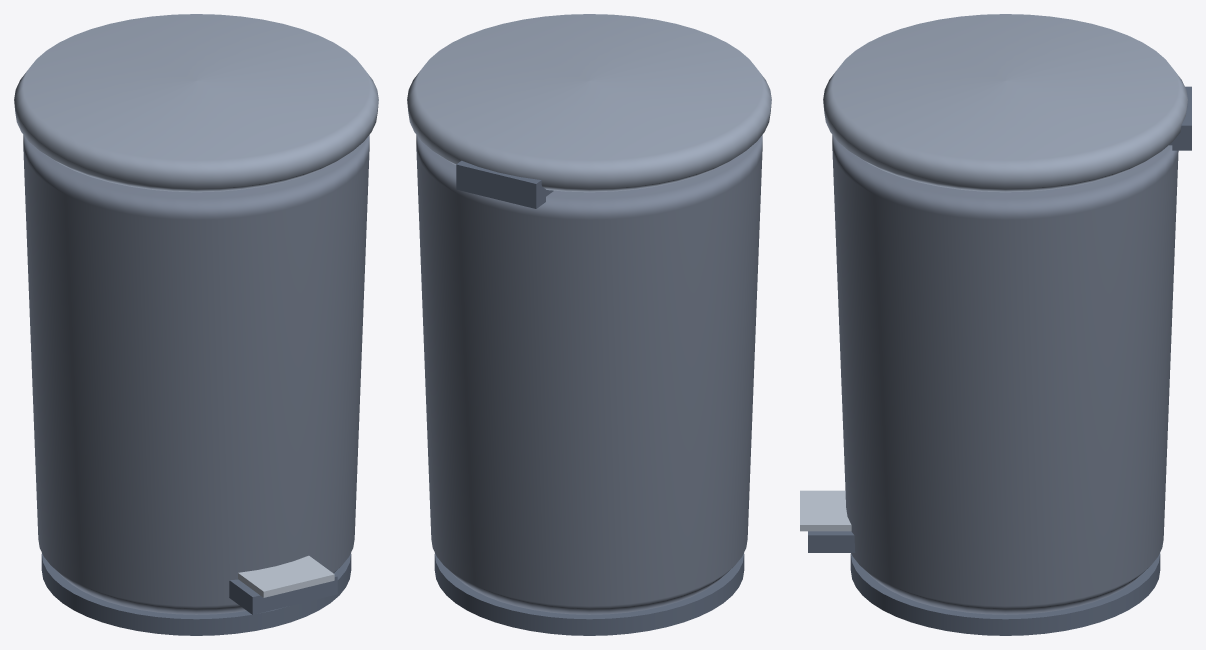
The model's file is trash-bin-lite.glb.
The picture shows the model from 3 angles, left to right: view 1: azimuth 30°, elevation 25°; view 2: azimuth 150°, elevation 25°; view 3: azimuth 270°, elevation 25°; orthographic projection.
Parts seen in each view (by area): view 1: trash-bin-frame, trash-bin-accent, trash-bin-dark, trash-bin-light; view 2: trash-bin-frame, trash-bin-accent, trash-bin-dark; view 3: trash-bin-frame, trash-bin-accent, trash-bin-dark, trash-bin-light.
Boxes of the visible parts, x1,y1,x2,y2 form: trash-bin-frame: (23,135,369,614); trash-bin-accent: (14,14,378,192); trash-bin-dark: (41,553,351,635); trash-bin-light: (238,555,334,597); trash-bin-frame: (416,135,762,614); trash-bin-accent: (407,14,771,192); trash-bin-dark: (434,160,744,635); trash-bin-frame: (832,135,1178,614); trash-bin-accent: (823,14,1187,192); trash-bin-dark: (808,86,1191,635); trash-bin-light: (800,490,851,531).
Size of the model in its own units: 0.316 by 0.468 by 0.3395.
